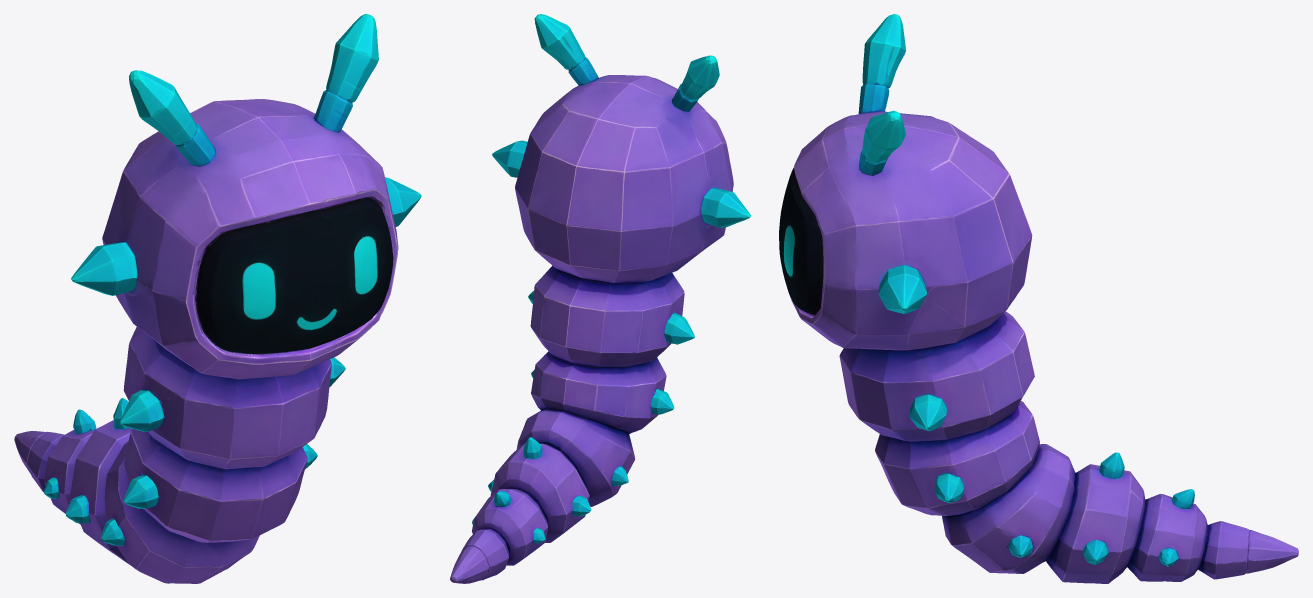
Rendered from wormy.fbx.
The picture shows the model from 3 angles, left to right: view 1: azimuth 30°, elevation 25°; view 2: azimuth 150°, elevation 25°; view 3: azimuth 270°, elevation 25°; orthographic projection. The views are drawn at different scales.
Visible parts, largest first — view 1: Mesh; view 2: Mesh; view 3: Mesh.
Part boxes in pixels (bbox=[...]): Mesh: bbox=[14, 14, 421, 583]; Mesh: bbox=[450, 14, 750, 583]; Mesh: bbox=[779, 14, 1298, 583].
Bounding box in the file's own units: 106 × 173 × 158.
1 material, 1 textured.
